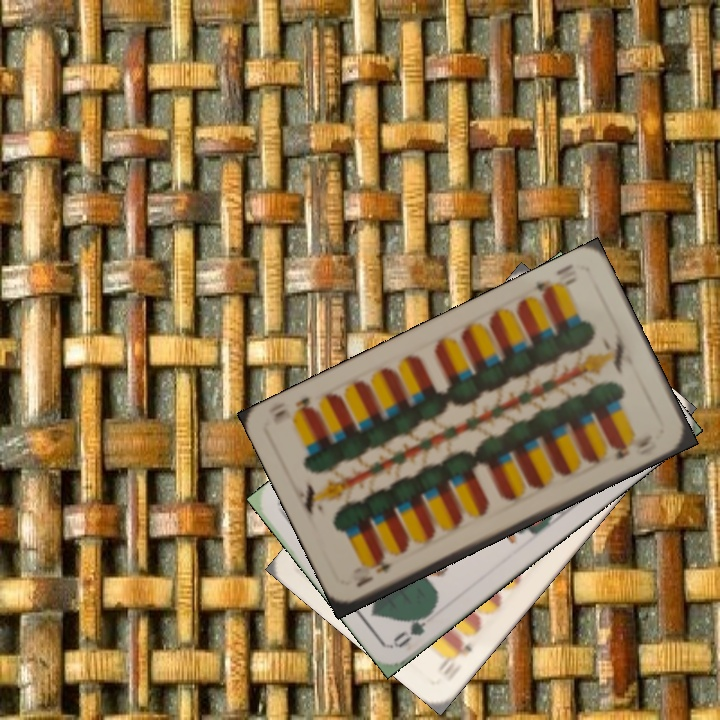E10: (532, 260, 576, 302), (352, 557, 397, 590), (439, 637, 475, 678)
GO: (389, 602, 438, 650)
